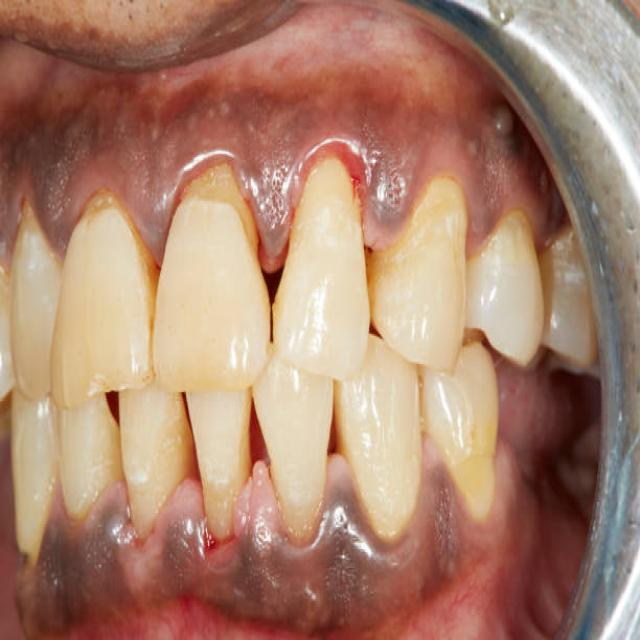Gingivitis: (35, 518, 125, 620), (352, 91, 416, 231), (242, 89, 302, 238), (411, 466, 471, 599), (238, 514, 310, 622), (32, 110, 88, 238), (321, 506, 375, 633), (154, 518, 226, 604), (151, 97, 233, 163), (471, 92, 520, 198)
